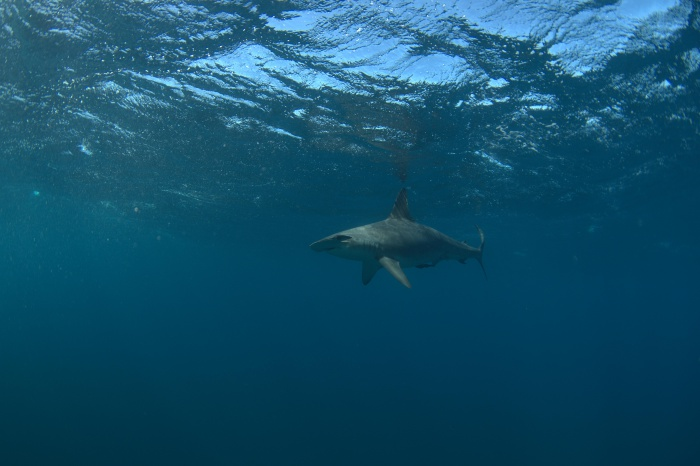Hammer: (305, 184, 500, 296)
